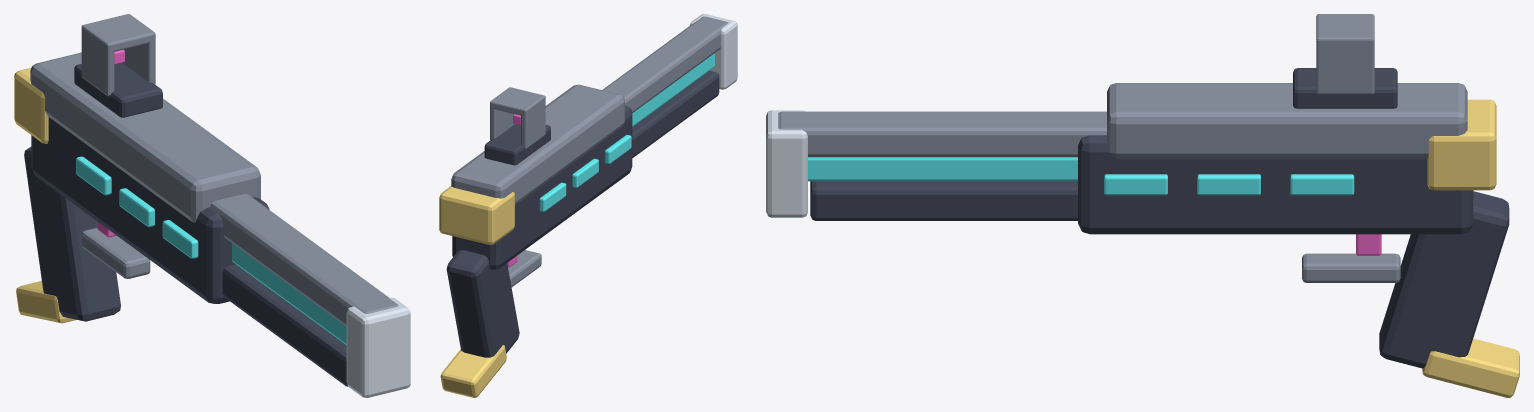
Rendered from Cyber_Blaster.fbx.
3 renders of one model, left to right at view 1: azimuth 30°, elevation 25°; view 2: azimuth 150°, elevation 25°; view 3: azimuth 270°, elevation 25°, orthographic. The views are drawn at different scales.
Parts seen in each view (by area): view 1: Blaster_UpperSlide, Blaster_Receiver, Blaster_TopRail, Blaster_Grip, Blaster_MuzzleRing, Blaster_BottomRail, Blaster_HoloBase, Blaster_PlasmaCore, Blaster_TriggerGuard, Blaster_HoloTop, Blaster_RearVent, Blaster_HoloArchL (+5 smaller); view 2: Blaster_UpperSlide, Blaster_Receiver, Blaster_Grip, Blaster_TopRail, Blaster_RearVent, Blaster_BottomRail, Blaster_MagCap, Blaster_HoloBase, Blaster_MuzzleRing, Blaster_PlasmaCore, Blaster_HoloTop, Blaster_HoloArchL (+5 smaller); view 3: Blaster_Receiver, Blaster_UpperSlide, Blaster_TopRail, Blaster_Grip, Blaster_BottomRail, Blaster_PlasmaCore, Blaster_RearVent, Blaster_MuzzleRing, Blaster_MagCap, Blaster_TriggerGuard, Blaster_HoloArchR, Blaster_HoloBase (+4 smaller).
Boxes of the visible parts, box(x1,y1,x2,y2) form: Blaster_UpperSlide: box(30, 52, 260, 222); Blaster_Receiver: box(31, 117, 269, 303); Blaster_TopRail: box(210, 193, 398, 326); Blaster_Grip: box(24, 147, 120, 321); Blaster_MuzzleRing: box(346, 297, 410, 397); Blaster_BottomRail: box(222, 264, 348, 386); Blaster_HoloBase: box(74, 62, 162, 117); Blaster_PlasmaCore: box(232, 243, 346, 344); Blaster_TriggerGuard: box(81, 227, 150, 278); Blaster_HoloTop: box(81, 14, 155, 51); Blaster_RearVent: box(14, 68, 48, 143); Blaster_HoloArchL: box(81, 33, 114, 96); Blaster_UpperSlide: box(451, 84, 624, 204); Blaster_Receiver: box(452, 106, 632, 269); Blaster_Grip: box(446, 250, 519, 357); Blaster_TopRail: box(602, 16, 728, 112); Blaster_RearVent: box(439, 186, 514, 244); Blaster_BottomRail: box(632, 71, 719, 157); Blaster_MagCap: box(440, 345, 506, 397); Blaster_HoloBase: box(484, 124, 550, 165); Blaster_MuzzleRing: box(689, 14, 737, 89); Blaster_PlasmaCore: box(632, 53, 714, 126); Blaster_HoloTop: box(490, 87, 545, 115); Blaster_HoloArchL: box(521, 102, 545, 149); Blaster_Receiver: box(1078, 135, 1473, 234); Blaster_UpperSlide: box(1107, 83, 1467, 158); Blaster_TopRail: box(778, 111, 1106, 157); Blaster_Grip: box(1379, 191, 1509, 368); Blaster_BottomRail: box(810, 181, 1077, 220); Blaster_PlasmaCore: box(808, 157, 1077, 181); Blaster_RearVent: box(1427, 99, 1496, 190); Blaster_MuzzleRing: box(766, 110, 807, 217); Blaster_MagCap: box(1422, 338, 1519, 397); Blaster_TriggerGuard: box(1302, 253, 1400, 282); Blaster_HoloArchR: box(1316, 46, 1374, 94); Blaster_HoloBase: box(1293, 68, 1397, 108).
Bounding box in the file's own units: 0.084 × 0.3434 × 0.6479.
